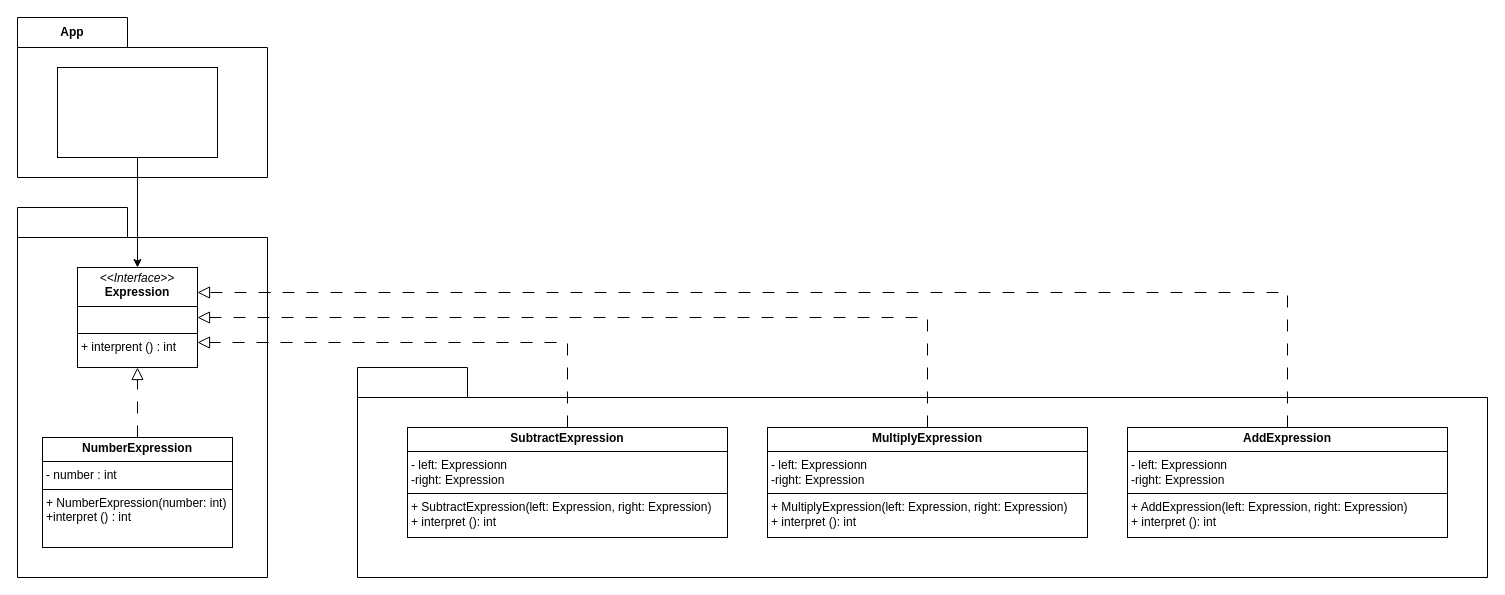
Some shapes in this 1505 by 595 pixel diagram are drawn without their labels. The box of each missing label's shape, as (x1, y1, x2, y2) in pixels:
Interpreter: (16, 206, 268, 578)
InterpreterPatternDemo + main(args: String[ ]): void: (56, 66, 218, 158)
operations: (356, 366, 1488, 578)
